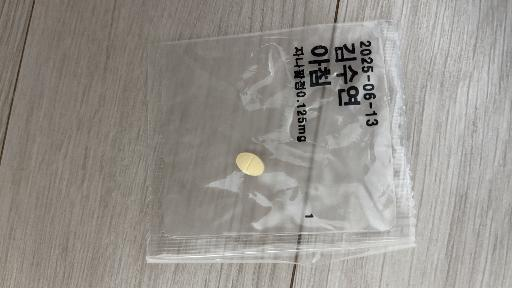Zanapam: (147, 20, 415, 265), (236, 152, 264, 176)
